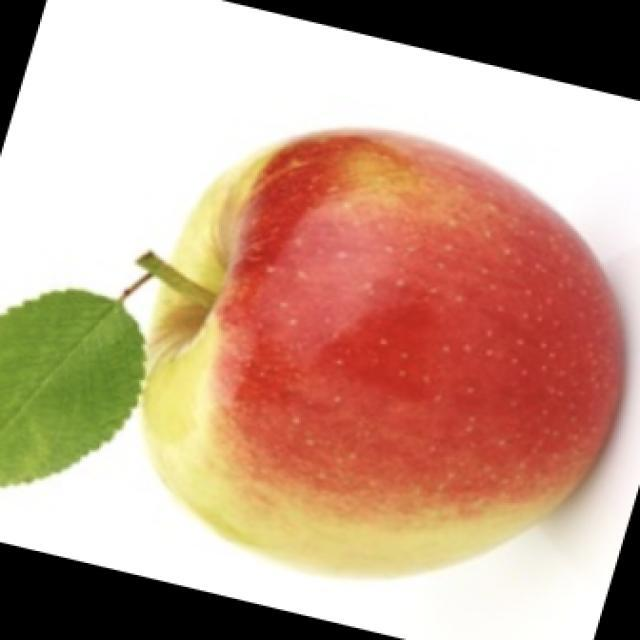Fresh Apple: (132, 114, 613, 594)
